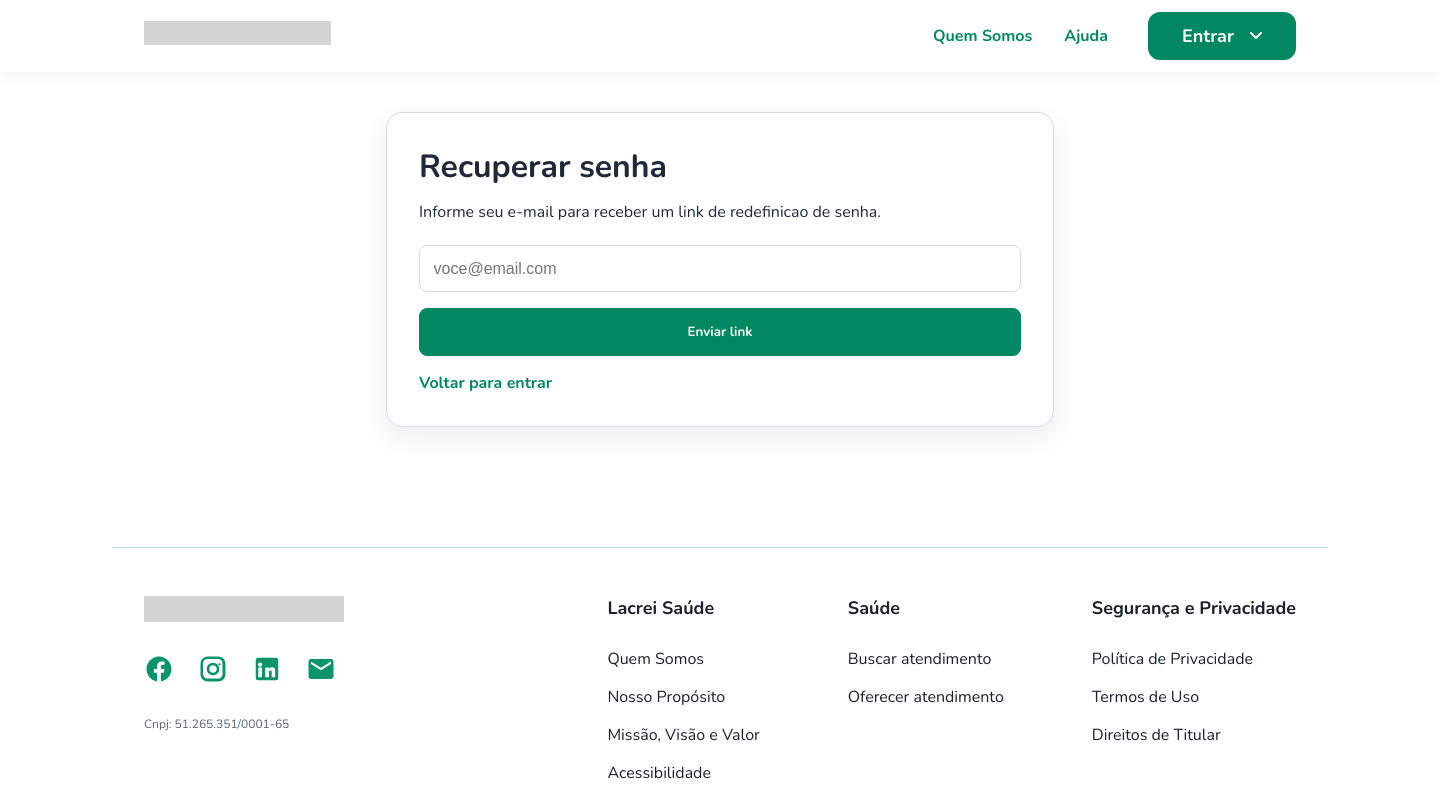
Test: Fluxo 1.2L - Recuperar senha › 1.2L - 3 exibe confirmacao de envio para e-mail
Step 1. Type "pessoa@teste.com" into the field → [720, 269], box 419,245 -> 1021,292
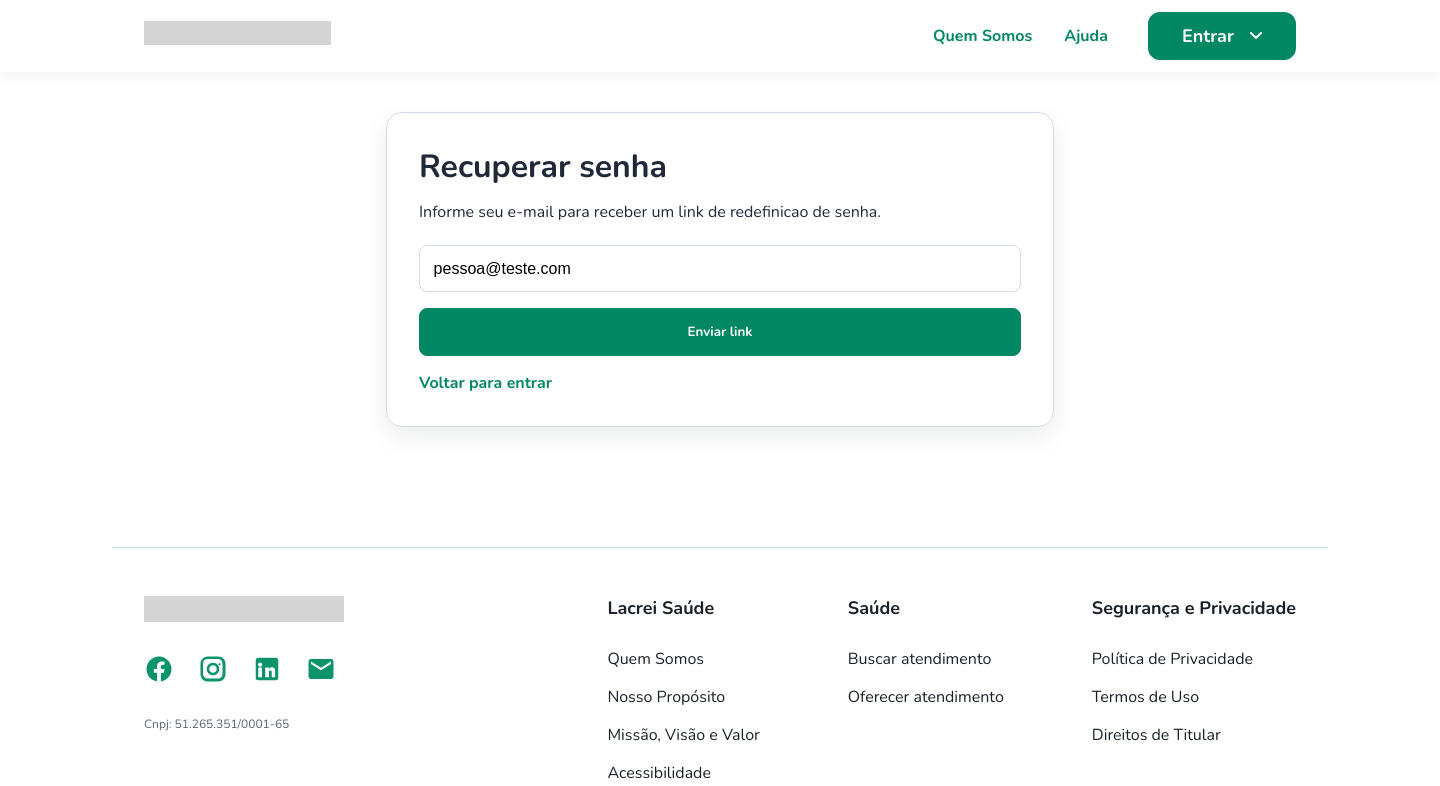
Step 2. Click the button "Enviar link" → [720, 332], box 419,308 -> 1021,356
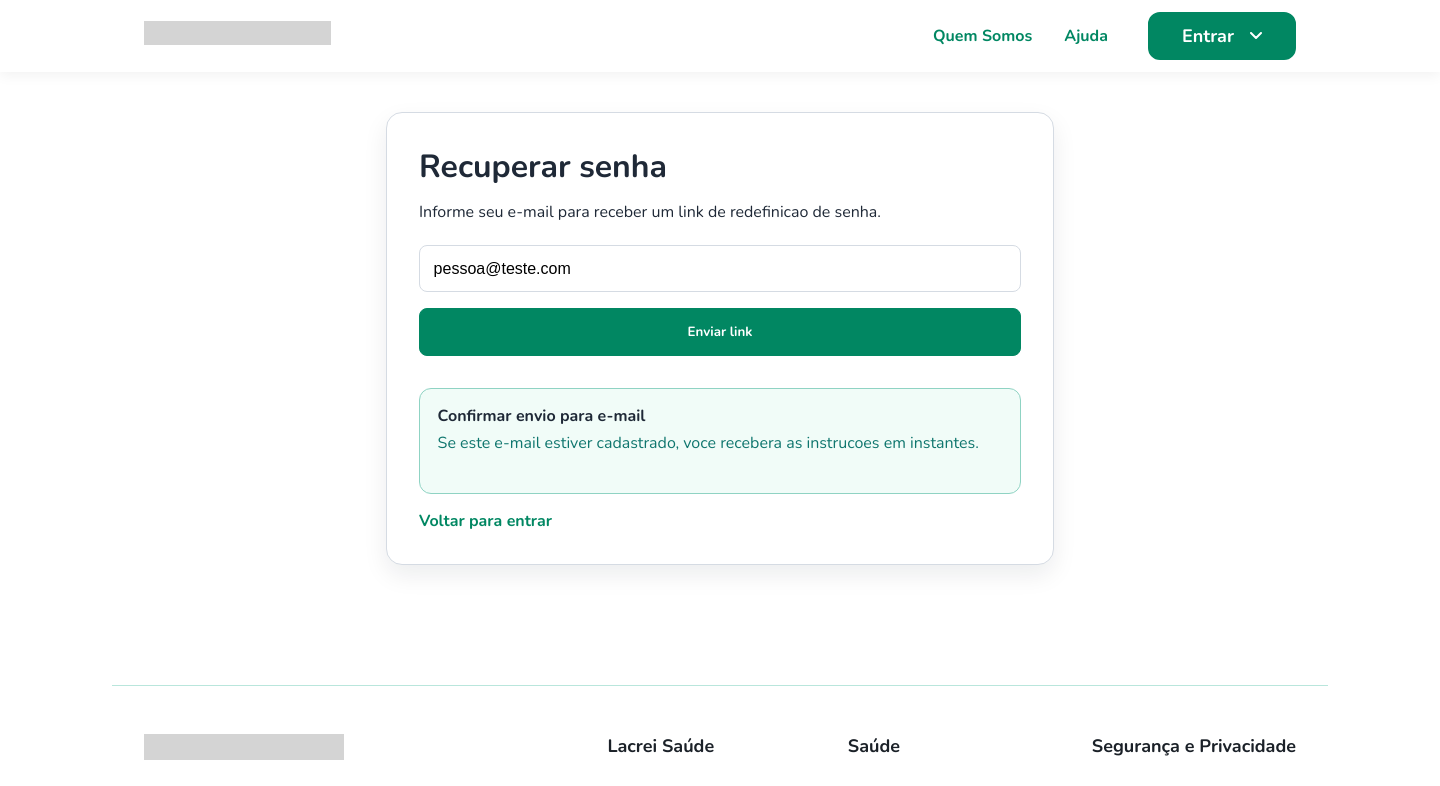
Check: the text "Confirmar envio para e-mail" is shown, box 438,405 -> 645,427
Check: the text "Se este e-mail estiver cadastrado, voce recebera as instrucoes em instantes." is shown, box 438,432 -> 1002,454
